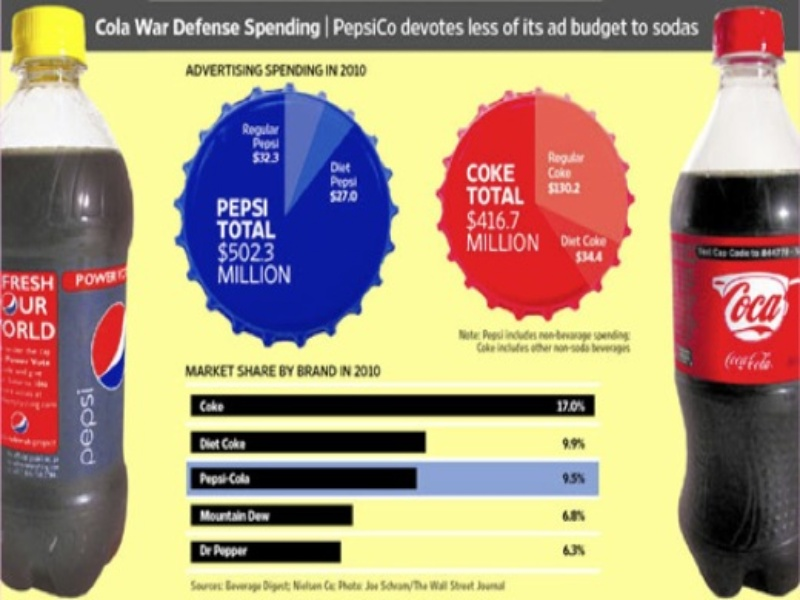Plastic bottle: (627, 23, 797, 600), (3, 5, 153, 591)
